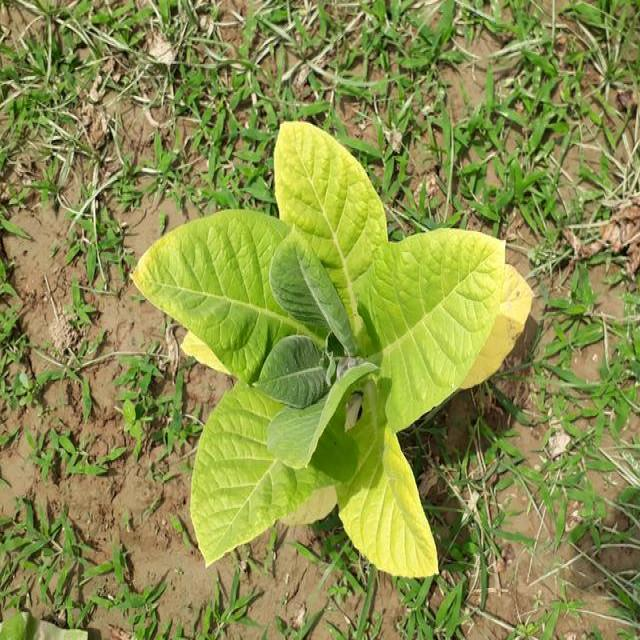crop: (127, 118, 538, 580)
